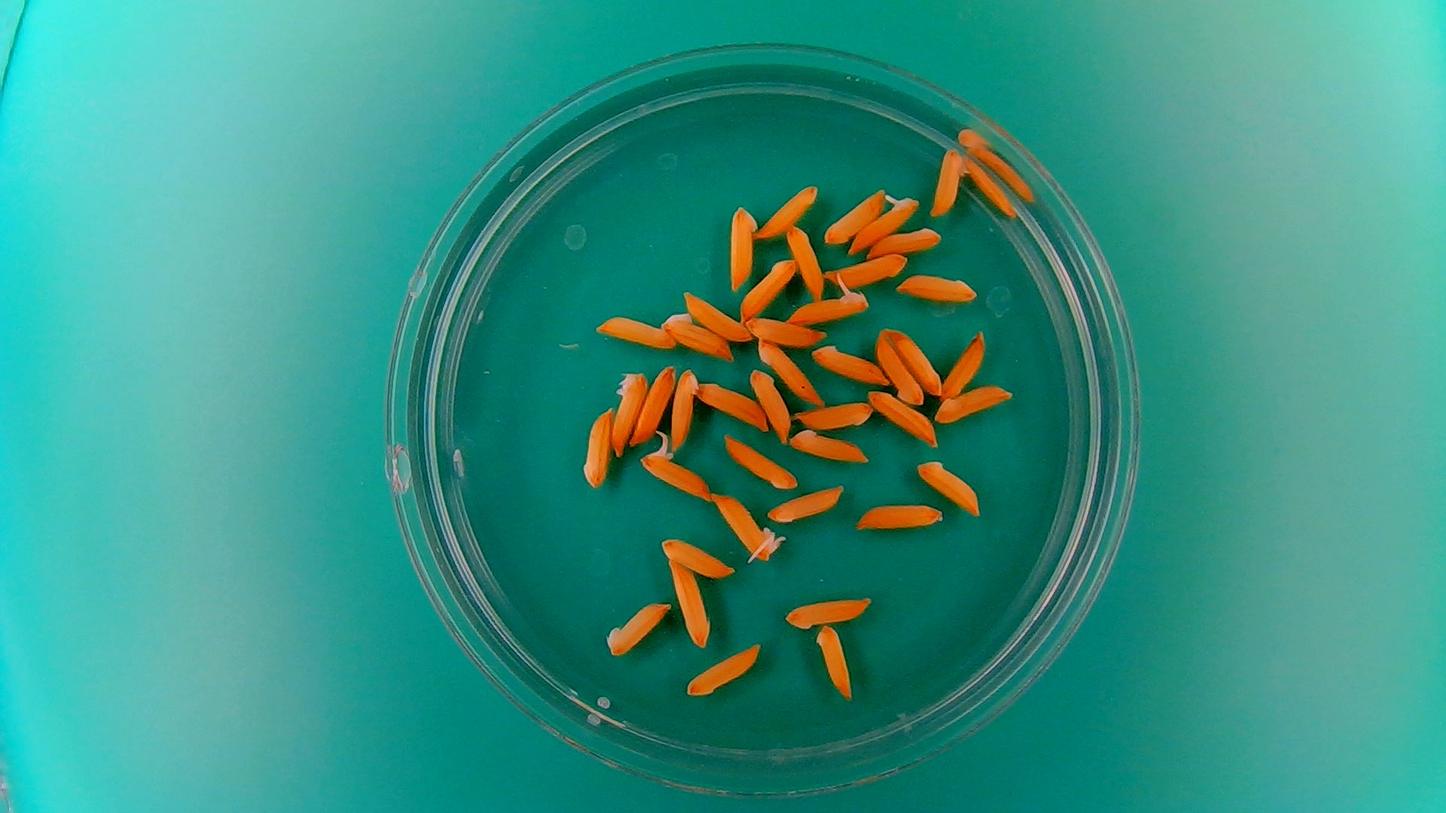no: (720, 432, 800, 492), (684, 641, 763, 698), (756, 338, 823, 405), (603, 597, 674, 659), (915, 456, 984, 517), (694, 376, 770, 430), (630, 361, 678, 446), (868, 388, 938, 446), (874, 329, 926, 406), (669, 559, 713, 650), (738, 255, 798, 321), (891, 324, 943, 399), (961, 151, 1017, 220), (755, 181, 819, 240), (681, 290, 752, 343), (822, 187, 886, 245), (660, 310, 731, 362), (782, 592, 874, 632), (608, 367, 648, 458), (722, 202, 760, 297), (747, 364, 792, 444), (934, 382, 1017, 425), (658, 534, 737, 579), (813, 621, 856, 703), (764, 483, 846, 524), (941, 327, 987, 400), (824, 251, 909, 290), (593, 311, 675, 350), (812, 343, 888, 385), (853, 498, 944, 533), (784, 221, 824, 299), (581, 404, 615, 492), (789, 427, 869, 464), (669, 365, 701, 454), (896, 272, 980, 305), (929, 144, 966, 218), (743, 315, 825, 348), (793, 398, 872, 431), (865, 225, 943, 258)
yes: (712, 489, 778, 561), (641, 442, 715, 502), (853, 191, 919, 251), (786, 285, 871, 325)
